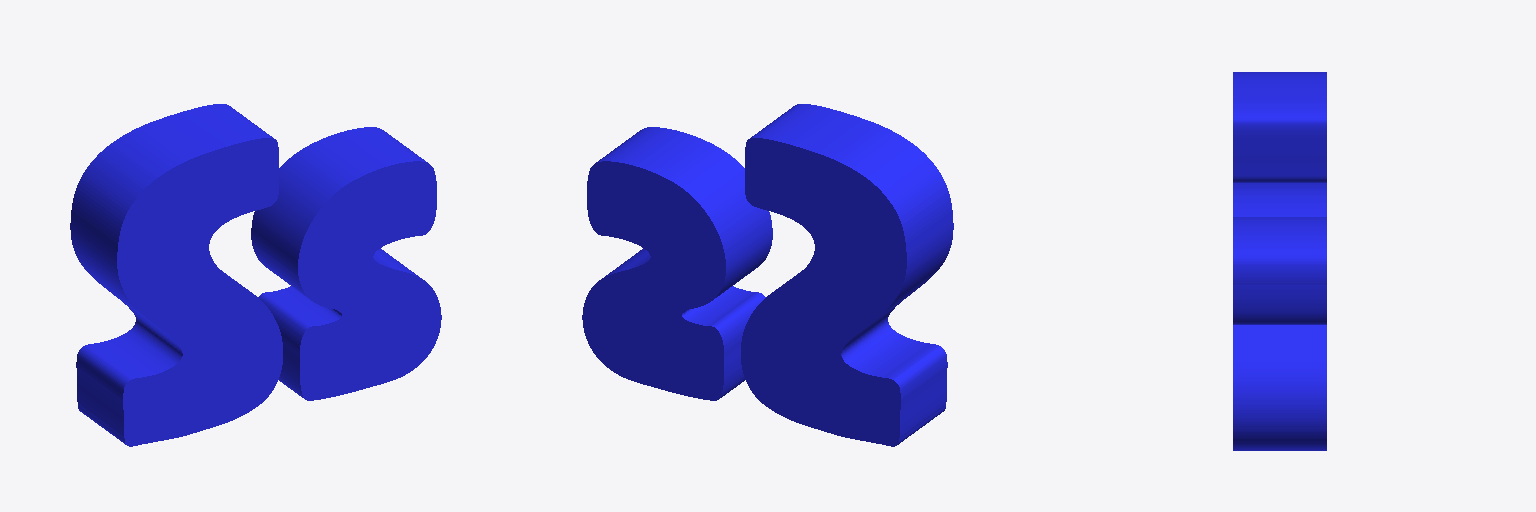
File: Letter_s.obj
3 renders of one model, left to right at view 1: azimuth 30°, elevation 25°; view 2: azimuth 150°, elevation 25°; view 3: azimuth 270°, elevation 25°, orthographic.
Visible parts, largest first — view 1: Text; view 2: Text; view 3: Text.
Boxes of the visible parts, <box> form: Text: <box>70,104,441,446</box>; Text: <box>582,104,953,446</box>; Text: <box>1233,72,1326,450</box>.
Size of the model in its own units: 0.8014 by 0.6603 by 0.2.